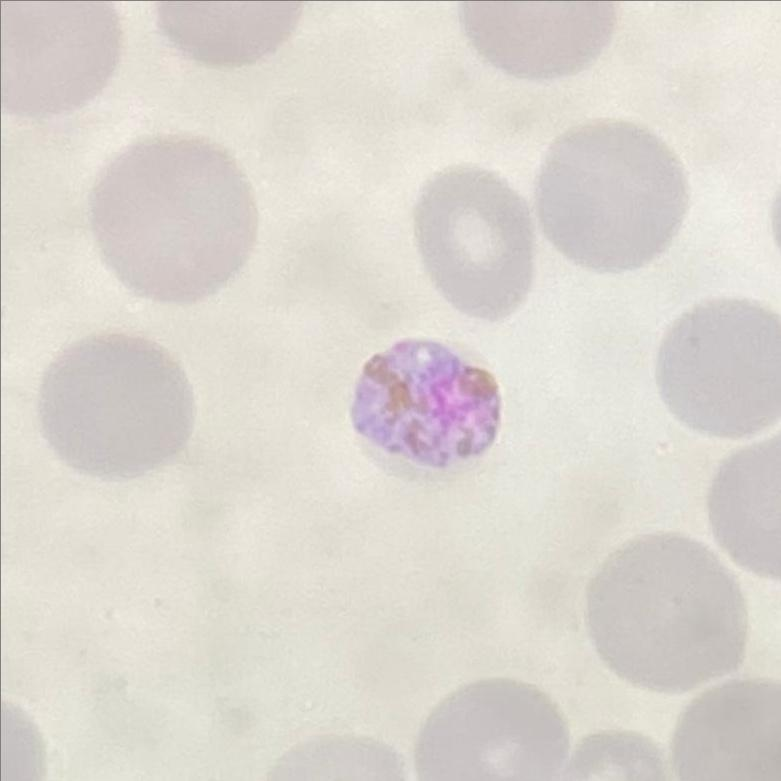Infected: (350, 342, 501, 475)
Uninfected: (98, 131, 259, 300), (537, 112, 693, 281), (590, 537, 749, 698), (33, 336, 198, 483), (415, 164, 542, 321), (655, 297, 781, 437)
